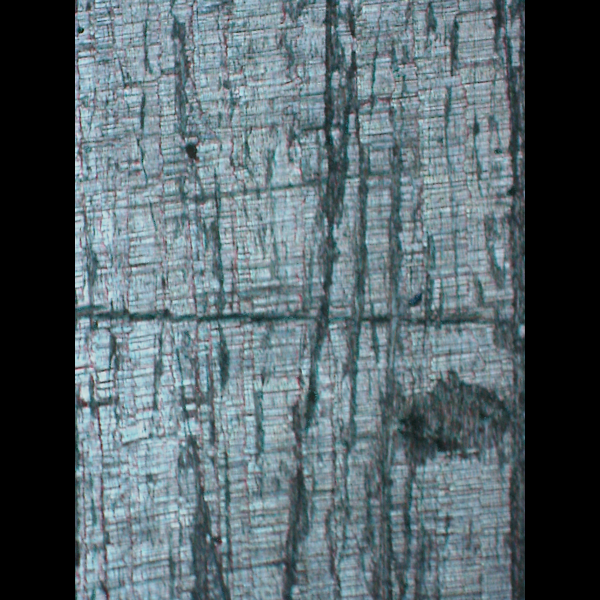d: (391, 359, 523, 469)
